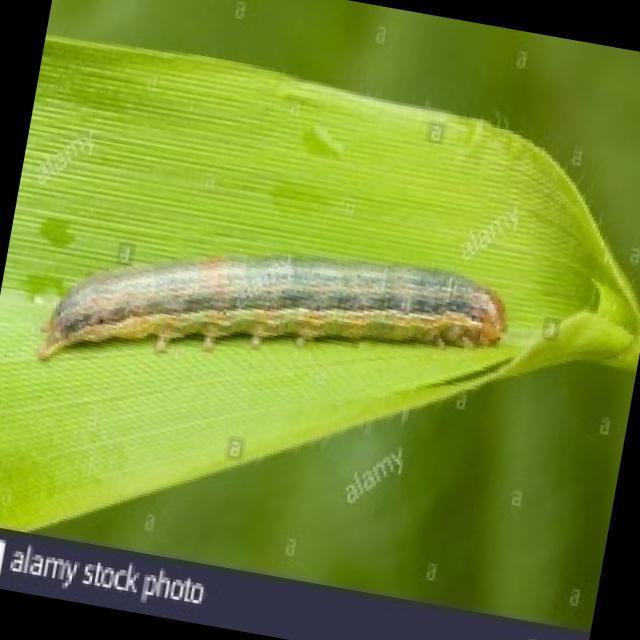pest: (46, 254, 502, 362)
